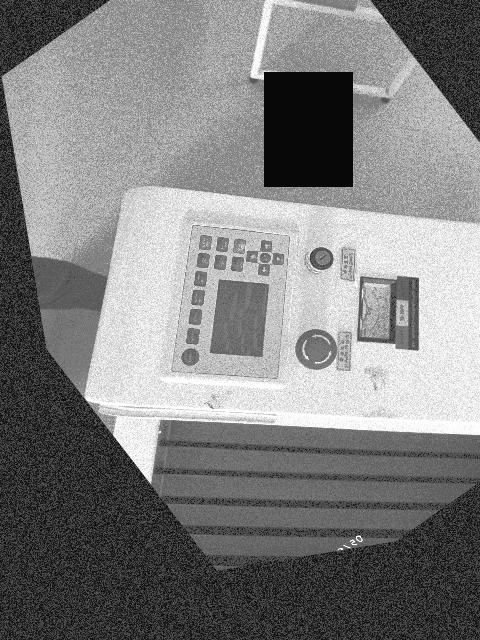Amp_Meter: (359, 278, 391, 340)
Display: (210, 280, 269, 356)
Down_button: (246, 250, 258, 263)
Emergency_Stop: (296, 330, 337, 370)
Enter_button: (233, 239, 245, 254)
Esc_button: (231, 257, 243, 271)
File_button: (197, 253, 210, 268)
Frame_button: (216, 237, 229, 252)
Left_button: (258, 264, 270, 276)
Max-Power_button: (194, 271, 207, 287)
Min-Power_button: (191, 290, 205, 305)
Origin_button: (214, 255, 227, 270)
Power_switch: (309, 247, 333, 270)
Pulse_button: (186, 328, 200, 344)
Reset_button: (182, 348, 199, 366)
Right_button: (260, 240, 272, 252)
Speed_button: (189, 309, 202, 325)
Start-Pause_button: (199, 235, 212, 250)
Up_button: (273, 253, 284, 265)
Z_U_button: (260, 252, 270, 263)
